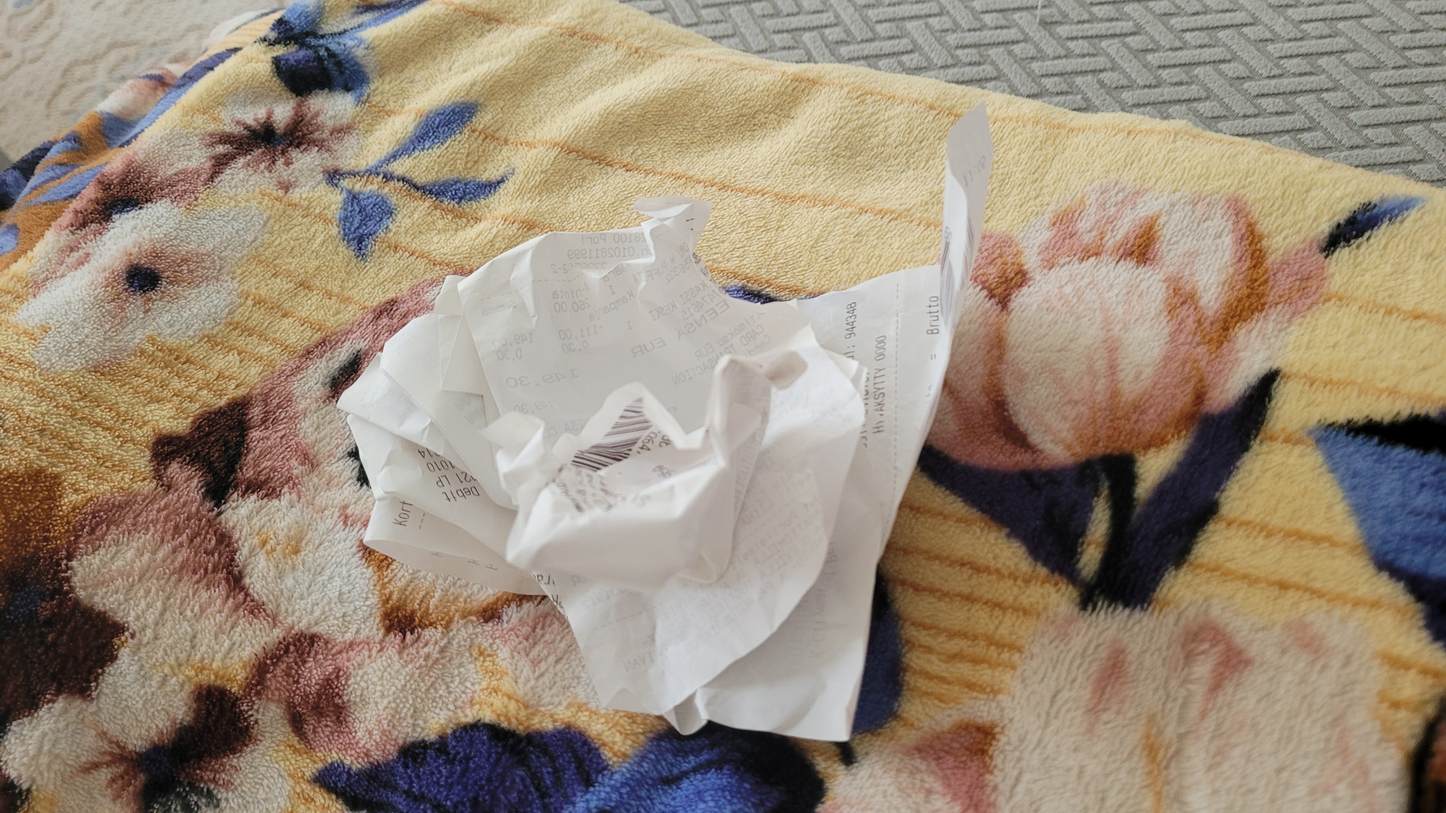paper: (330, 93, 1002, 751)
